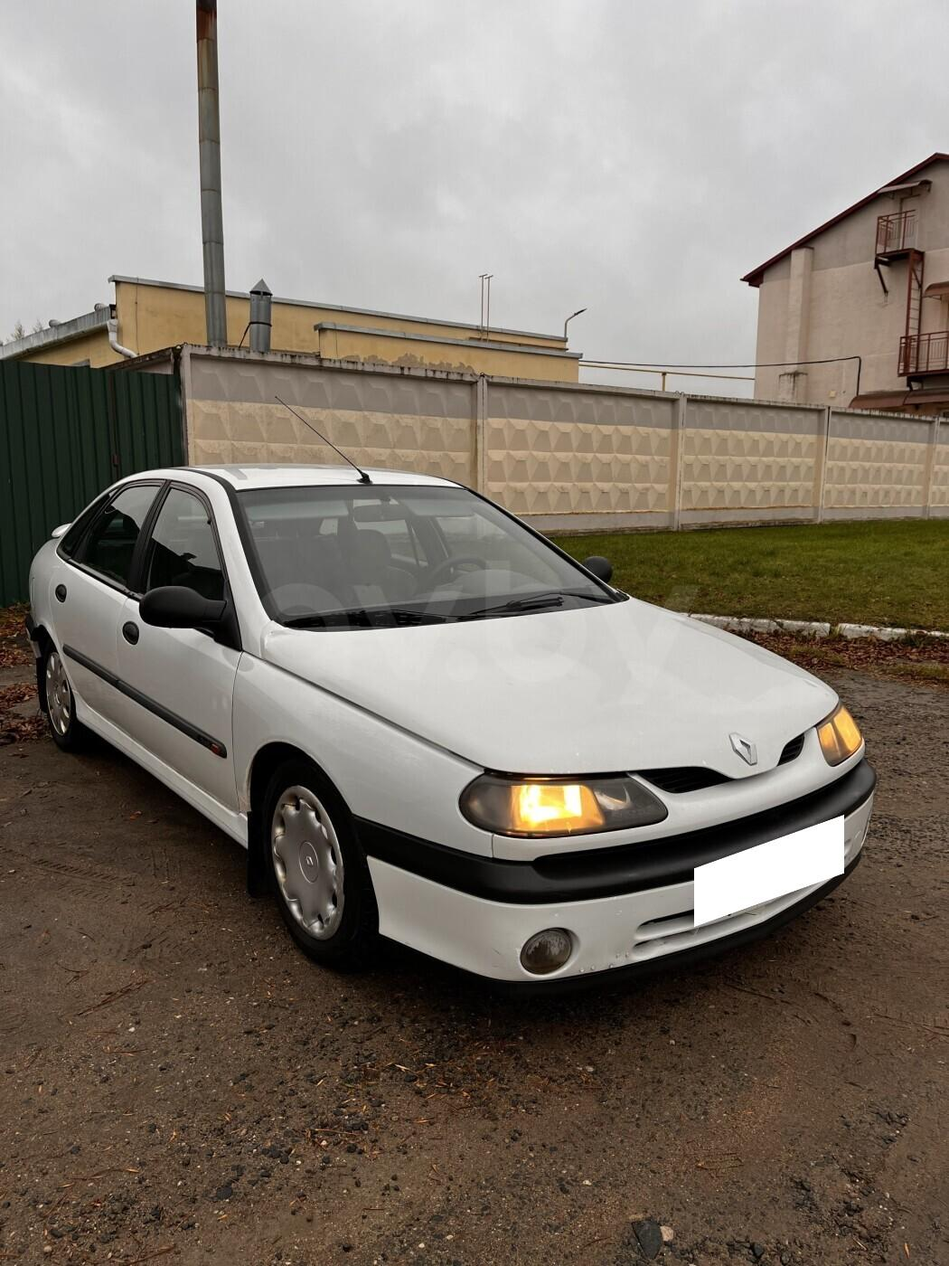Laguna_1998-2001: (27, 459, 888, 1006)
